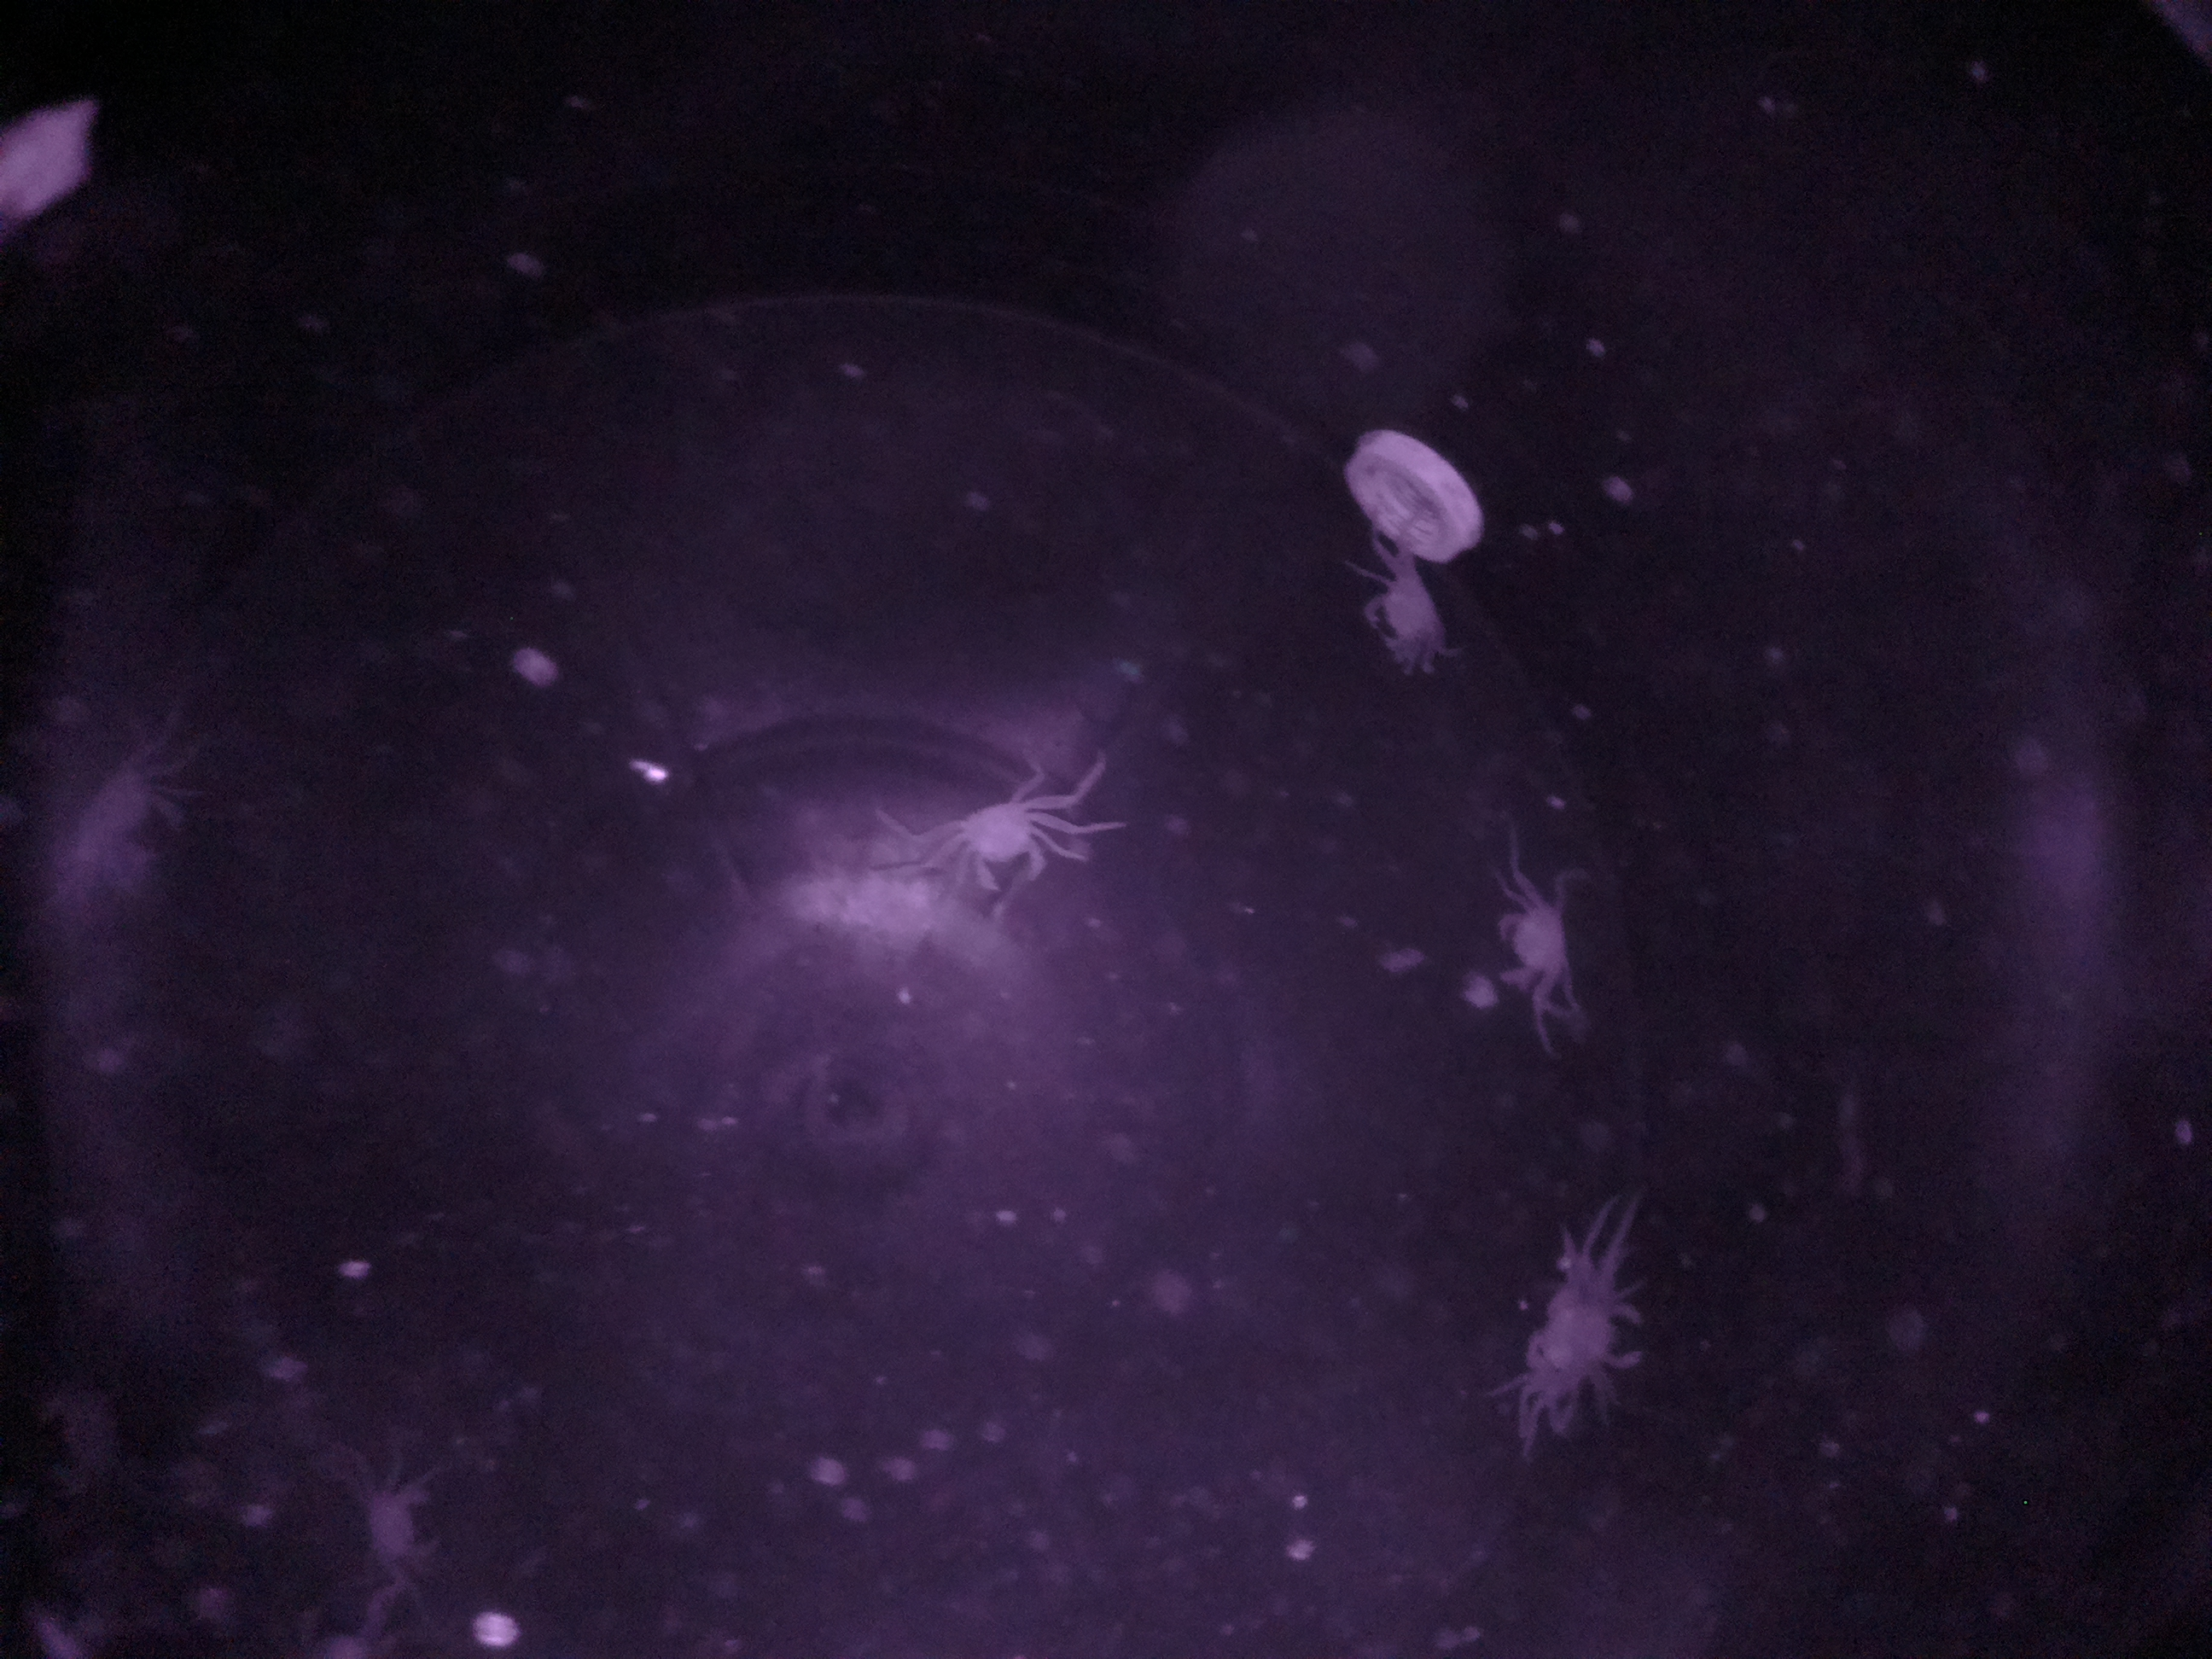Crab: (1467, 873, 1618, 1019), (944, 781, 1066, 915), (1352, 556, 1454, 687)
